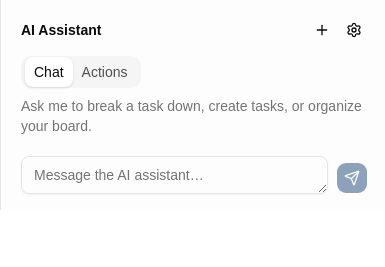
AIChatSidebar › sends a message on button click and renders both sides of the exchange
Type "Break this down" into the text box with placeholder "Message the AI assistant…".
click(174, 175); type("Break this down")  # box [21,156,328,194]
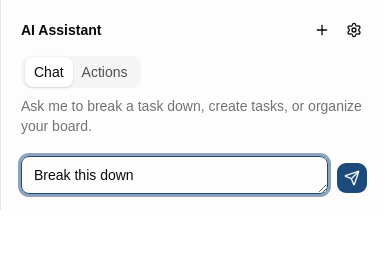
Click the button named "Send message".
click(352, 178)  # box [336,162,368,194]
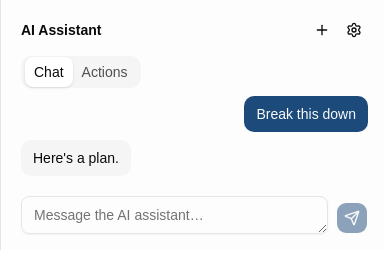
Expected: the text "Here's a plan." is shown, [21,140,131,176]
Expected: the text "Break this down" is shown, [244,96,368,132]
Expected: the text box with placeholder "Message the AI assistant…" is empty, [21,196,328,234]
